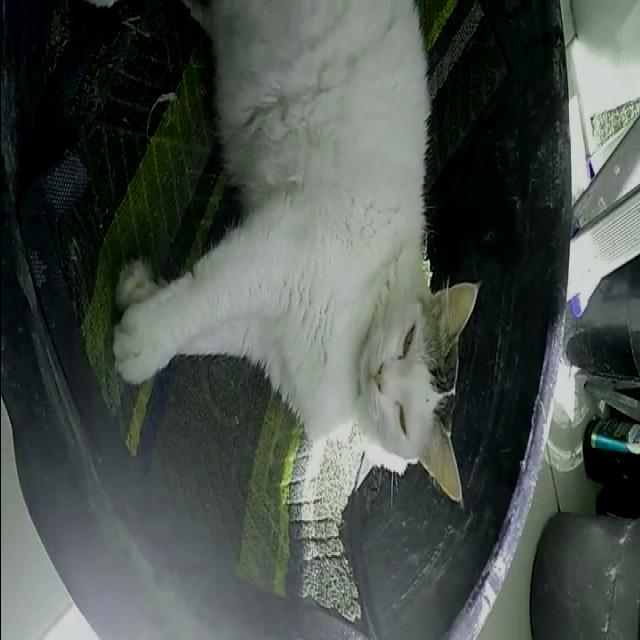Simba: (59, 0, 532, 525)
